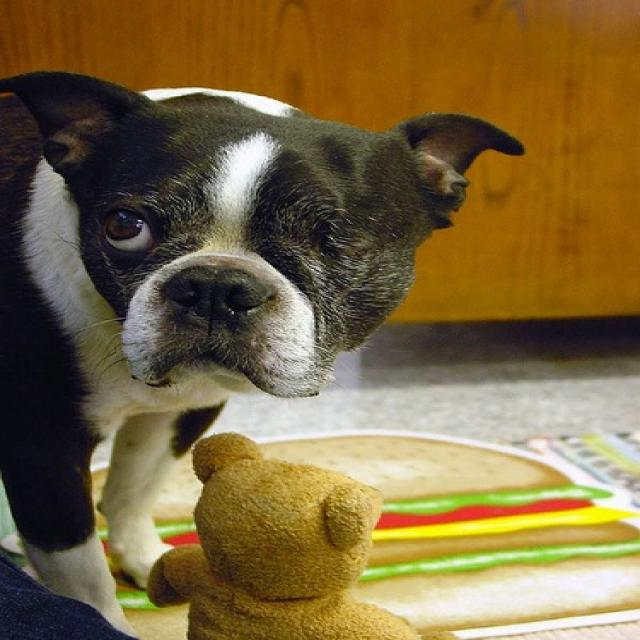dog: (0, 67, 524, 631)
